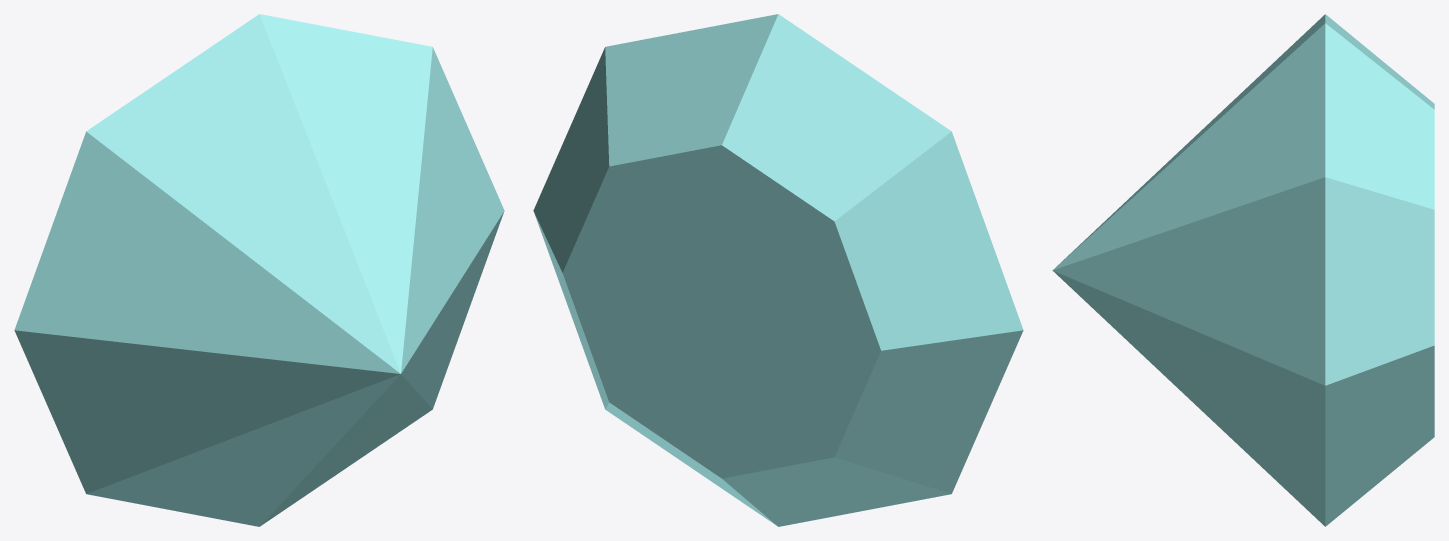
Rendered from diamond_held.gltf.
The picture shows the model from 3 angles, left to right: view 1: azimuth 30°, elevation 25°; view 2: azimuth 150°, elevation 25°; view 3: azimuth 270°, elevation 25°; orthographic projection. The views are drawn at different scales.
Parts seen in each view (by area): view 1: ore_diamond_held; view 2: ore_diamond_held; view 3: ore_diamond_held.
Boxes of the visible parts, x1,y1,x2,y2 form: ore_diamond_held: (14, 14, 504, 526); ore_diamond_held: (533, 14, 1023, 526); ore_diamond_held: (1052, 14, 1434, 526).
Bounding box in the file's own units: 0.1 × 0.1 × 0.07.
